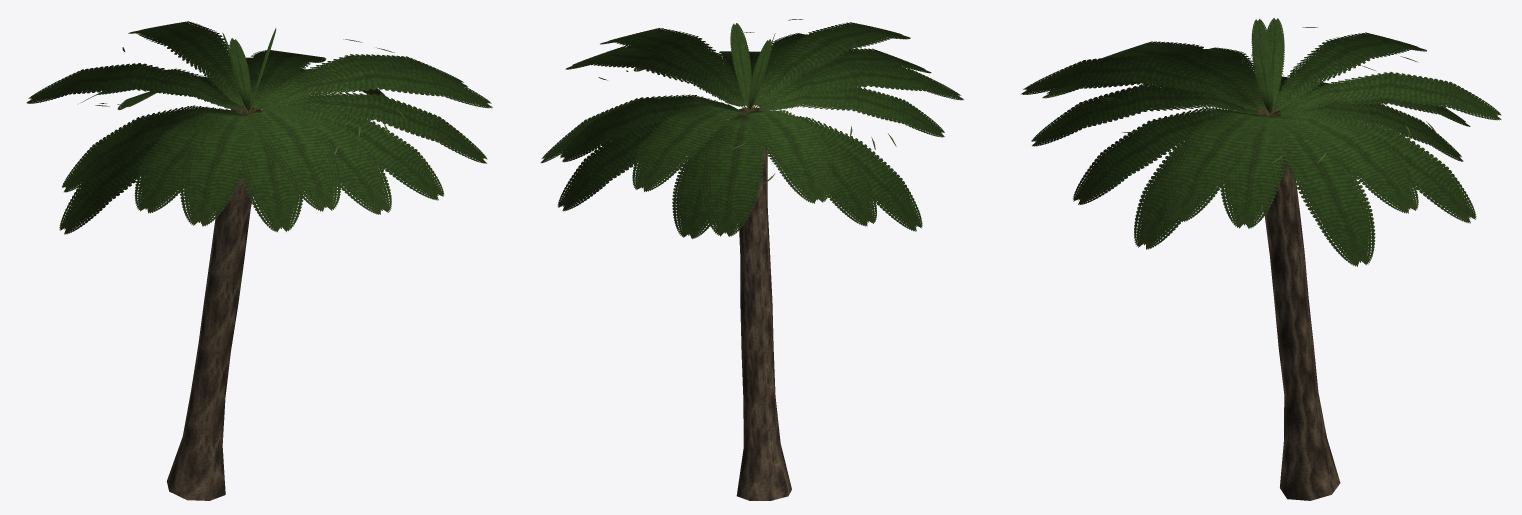
Rendered from ENV_Tree_02.fbx.
3 views of the same model, side by side, from view 1: azimuth 30°, elevation 25°; view 2: azimuth 150°, elevation 25°; view 3: azimuth 270°, elevation 25° (orthographic). The views are drawn at different scales.
Visible parts, largest first — view 1: ENV_Tree_02_LOD0; view 2: ENV_Tree_02_LOD0; view 3: ENV_Tree_02_LOD0.
Part boxes in pixels (x1,y1,x2,y2): ENV_Tree_02_LOD0: (26,21,492,500); ENV_Tree_02_LOD0: (540,19,964,500); ENV_Tree_02_LOD0: (1021,18,1501,500).
Size of what is drawn, in the model's own units: 6.52 by 7.27 by 6.87.
